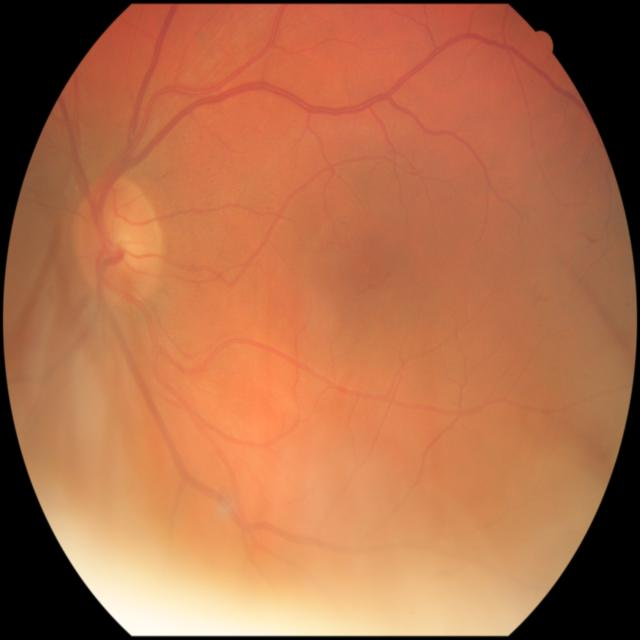OD: (75, 176, 166, 298)
